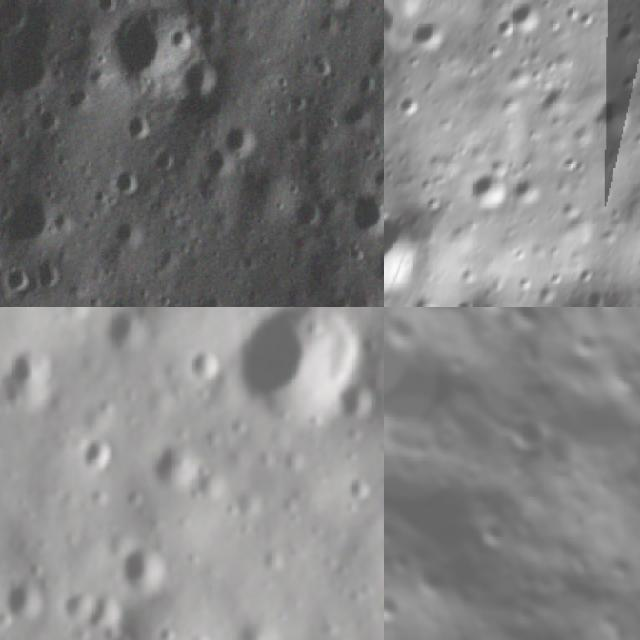crater: (226, 307, 384, 441), (384, 307, 486, 483), (101, 0, 193, 79), (384, 193, 441, 304), (147, 432, 227, 493), (2, 344, 59, 415), (115, 536, 179, 596), (0, 188, 59, 251), (407, 1, 459, 64), (470, 510, 526, 566), (589, 92, 640, 151), (177, 50, 232, 101), (402, 552, 453, 606), (76, 419, 122, 474), (500, 0, 551, 49), (472, 166, 525, 212), (384, 307, 430, 360), (0, 581, 48, 629), (346, 186, 384, 237), (336, 470, 382, 512), (221, 114, 263, 156), (34, 247, 68, 293), (384, 583, 413, 630), (288, 189, 322, 228), (188, 346, 220, 387), (144, 144, 180, 180), (0, 262, 35, 294), (124, 109, 154, 142), (113, 162, 140, 198), (469, 307, 534, 321), (154, 620, 185, 640), (307, 0, 354, 10), (0, 54, 9, 94)
